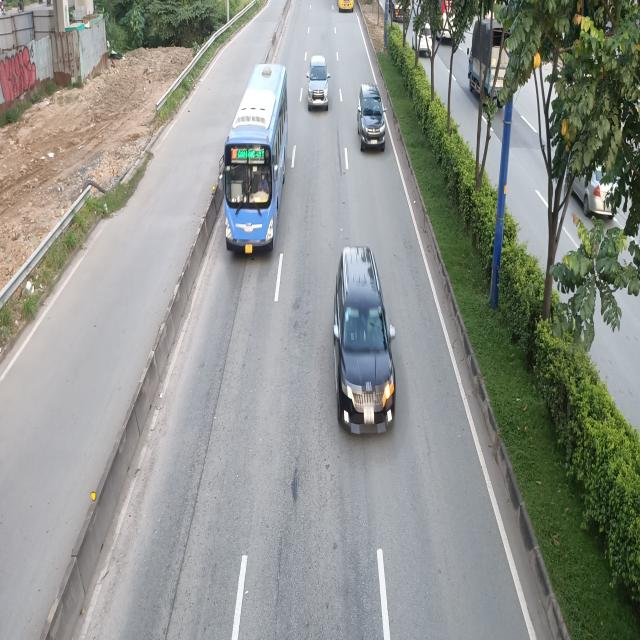car: (331, 248, 395, 435), (356, 85, 386, 153), (305, 57, 329, 111)
coach: (222, 63, 291, 251)
